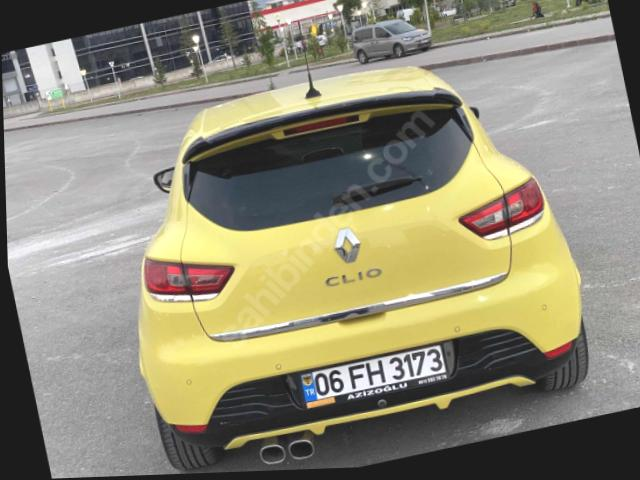plaka: (298, 341, 451, 407)
